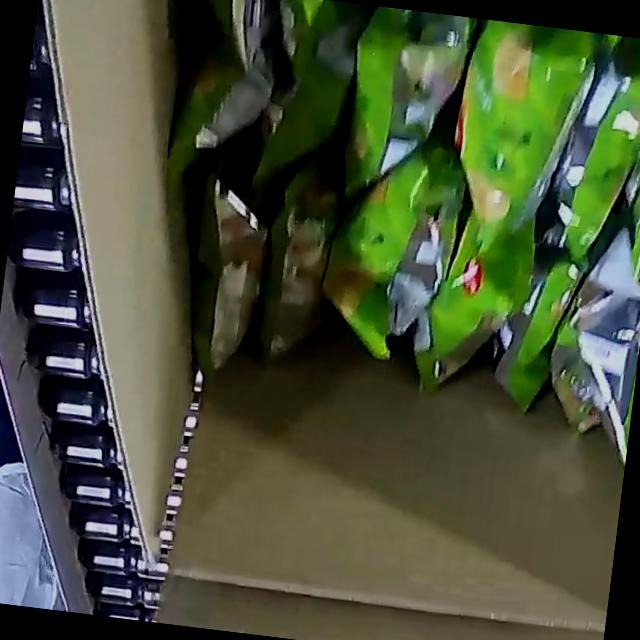yogurt: (90, 0, 640, 484), (214, 586, 600, 640)
